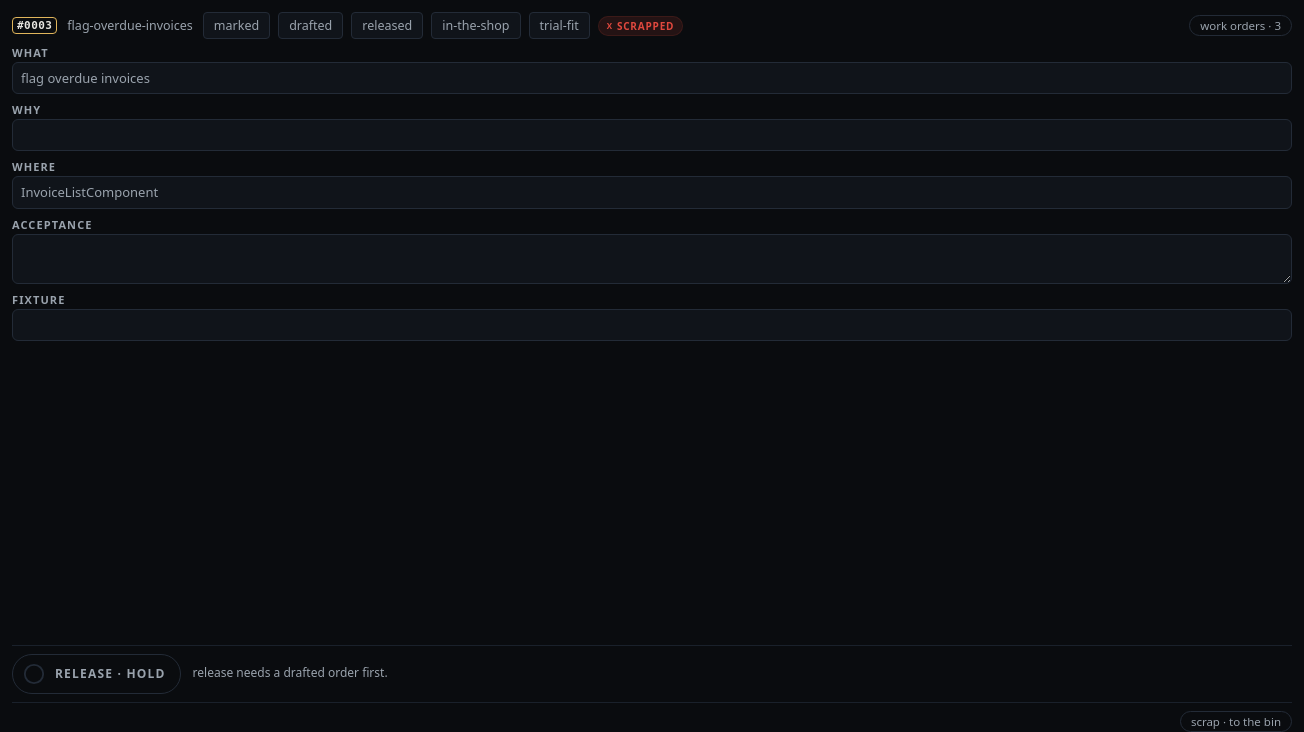
Test: TrayRegion — expanded: the spine › groups orders by state along the ladder, with a scrap bin for scrapped ones
Click the button "work orders · 3" at coordinates (1241, 26), box [1189, 15, 1292, 36]
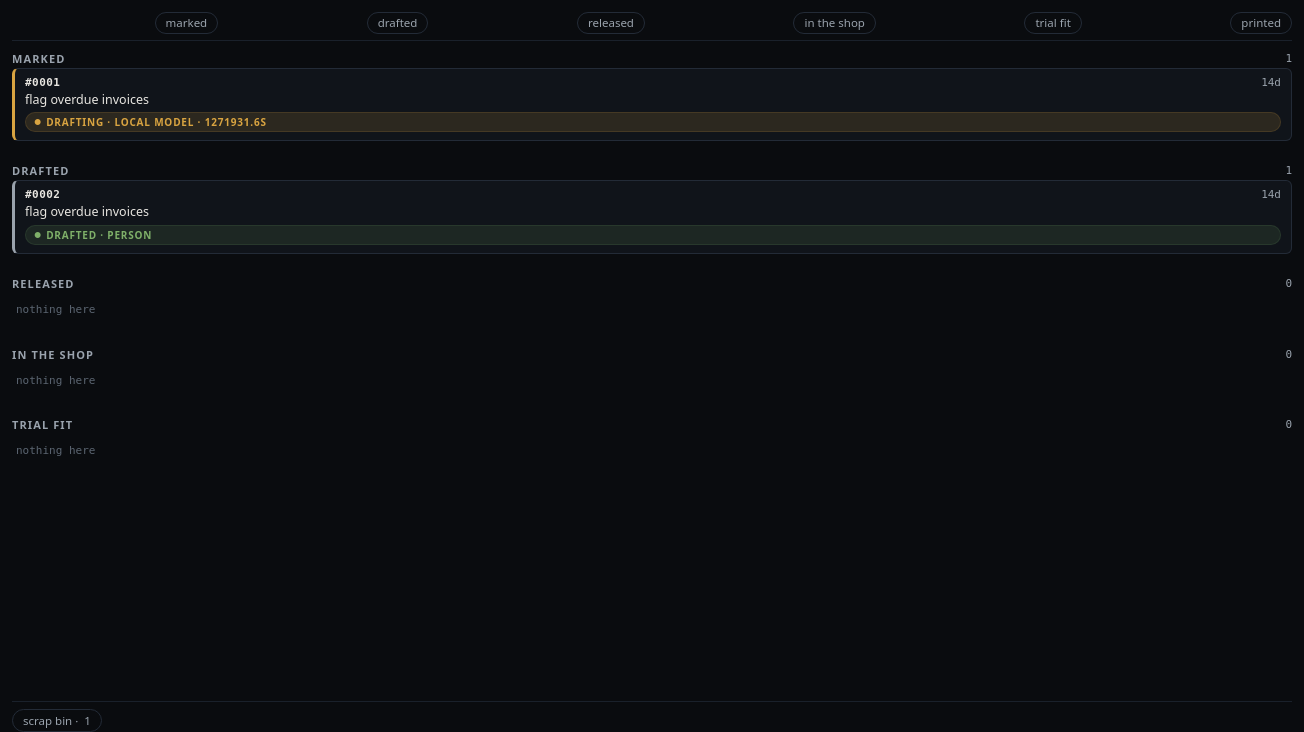
Check: the text "#0001" is shown, box [25, 76, 60, 88]
Check: the text "#0002" is shown, box [25, 189, 60, 200]
Check: the button "scrap bin · 1" is shown, box [12, 708, 102, 731]
